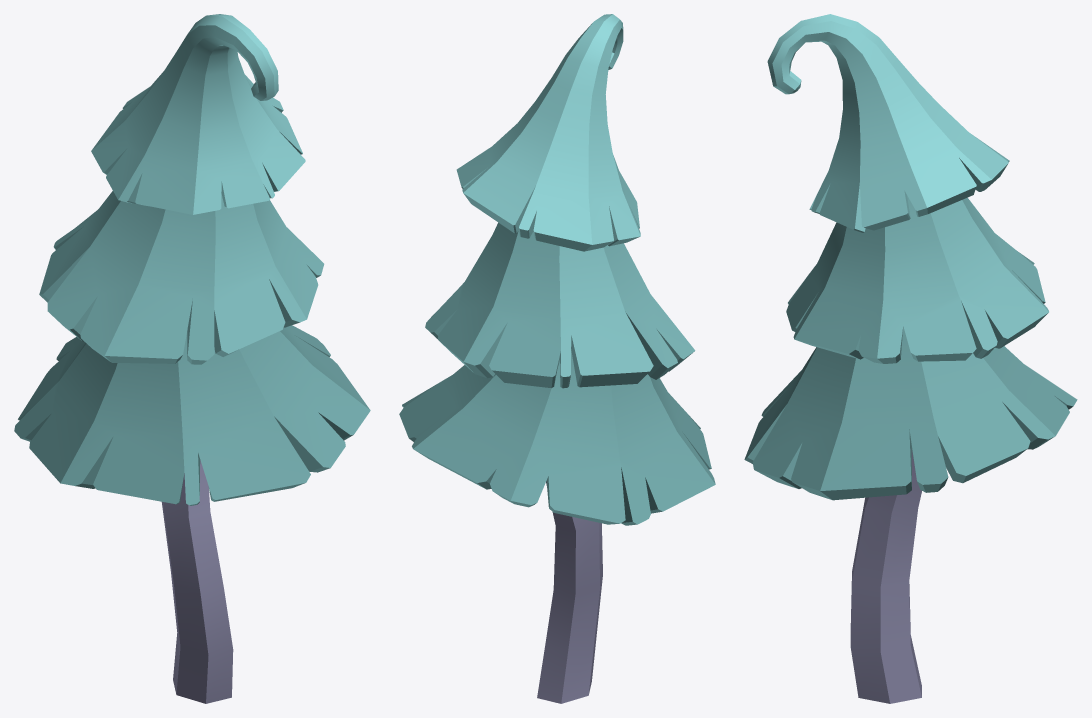
Rendered from Mystic_Tree_S_A1.fbx.
3 renders of one model, left to right at view 1: azimuth 30°, elevation 25°; view 2: azimuth 150°, elevation 25°; view 3: azimuth 270°, elevation 25°, orthographic. The views are drawn at different scales.
Parts seen in each view (by area): view 1: Mystic_Tree_S_A1; view 2: Mystic_Tree_S_A1; view 3: Mystic_Tree_S_A1.
Part boxes in pixels (<box>): Mystic_Tree_S_A1: <box>14,14,370,703</box>; Mystic_Tree_S_A1: <box>399,14,715,703</box>; Mystic_Tree_S_A1: <box>744,14,1077,703</box>.
Size of the model in its own units: 298 by 661 by 297.
